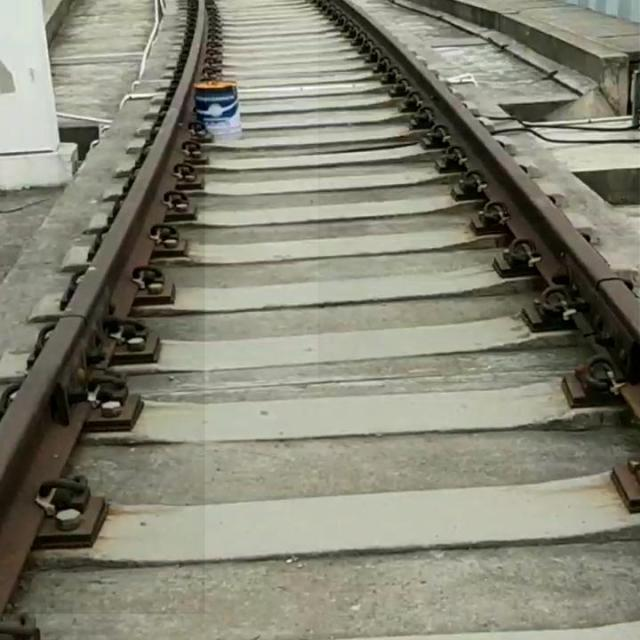rail: (1, 2, 206, 615), (319, 1, 640, 384)
